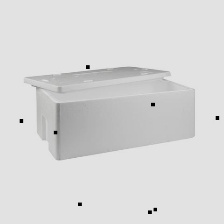foam_box: (16, 57, 202, 167)
